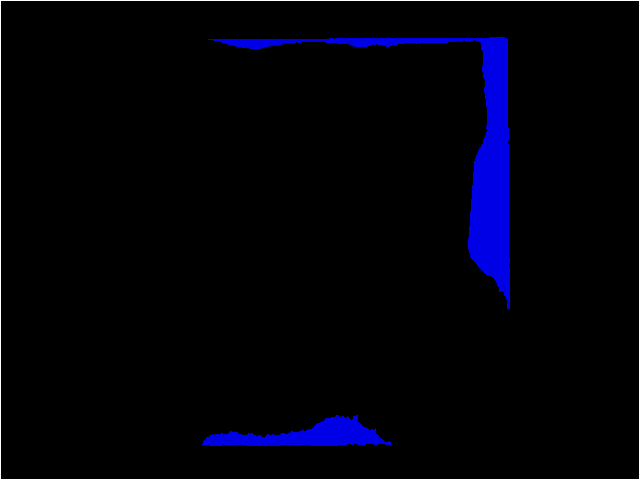defect: (206, 36, 512, 313), (202, 415, 393, 447)
